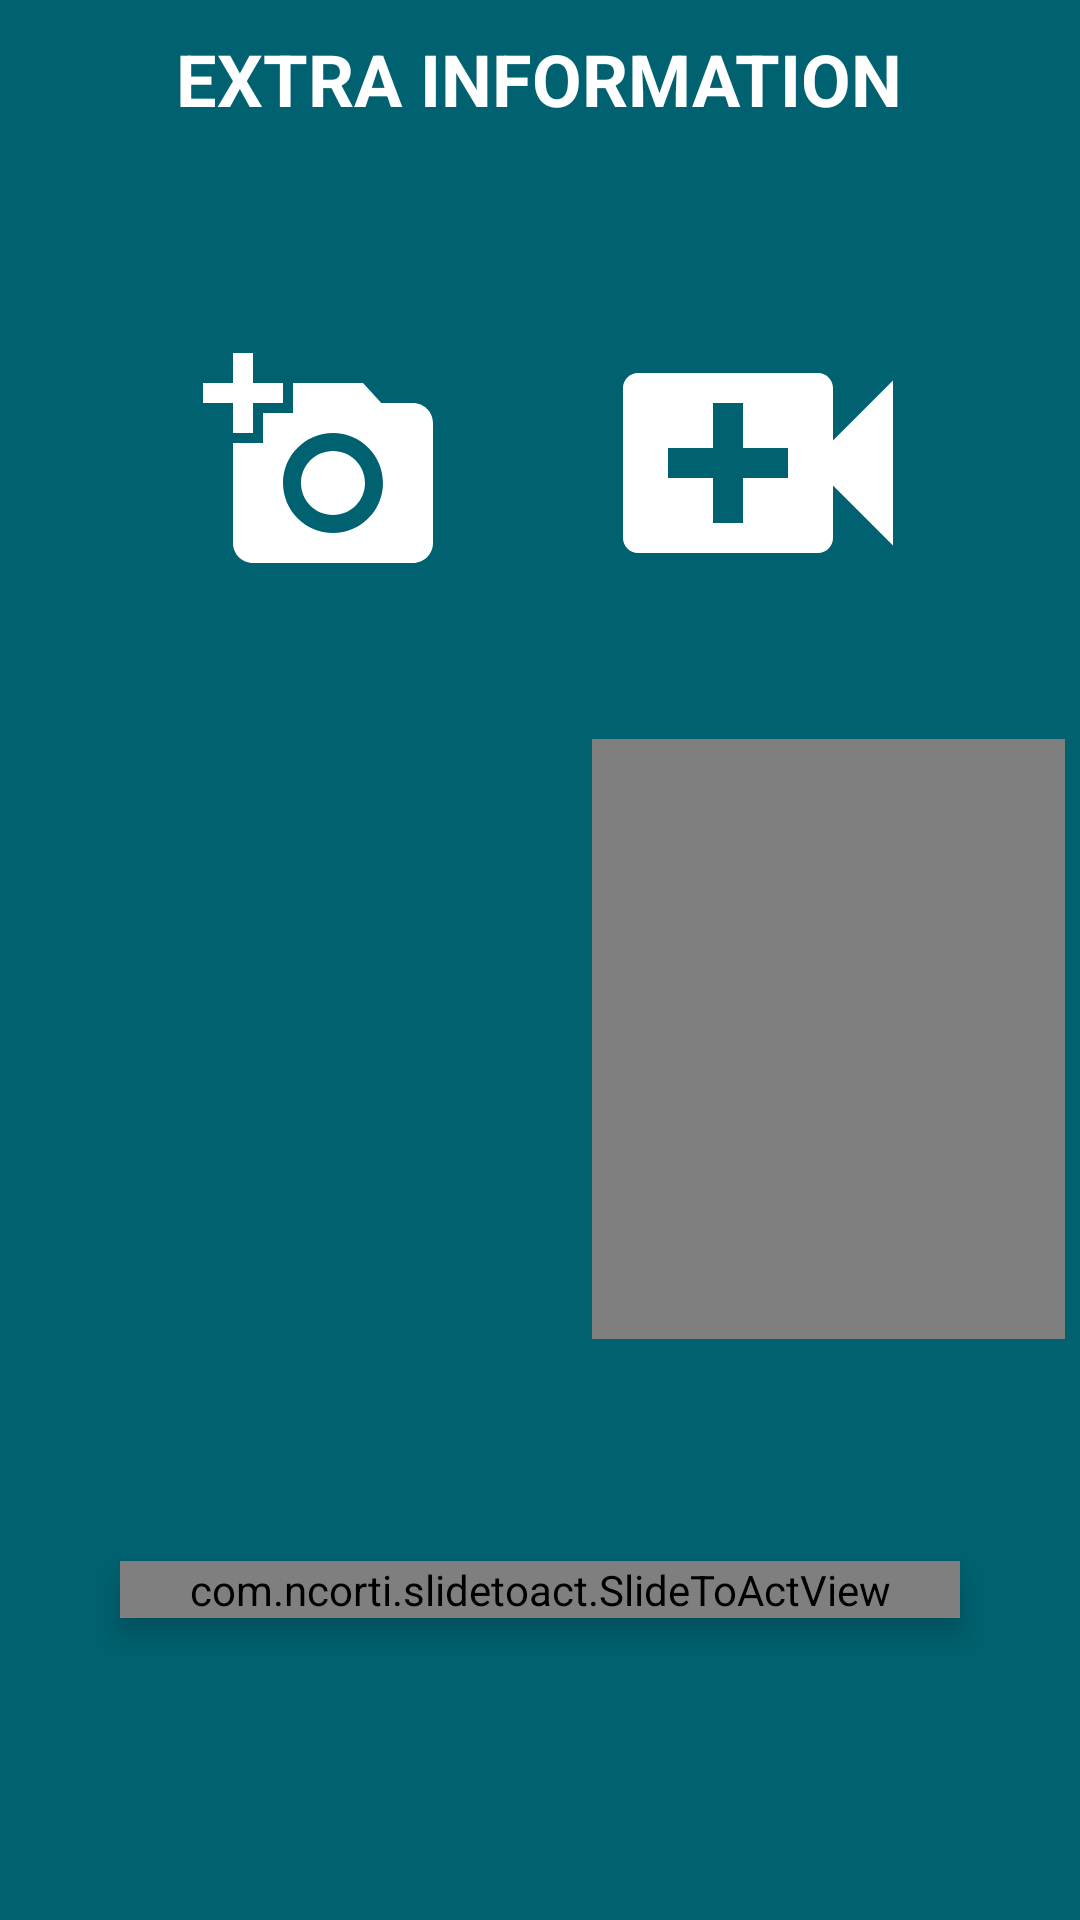

Icon bounding boxes for this 1080w x 1920h phone screenshot, format (x1, y1, x2, y2):
video: (623, 373, 893, 553)
